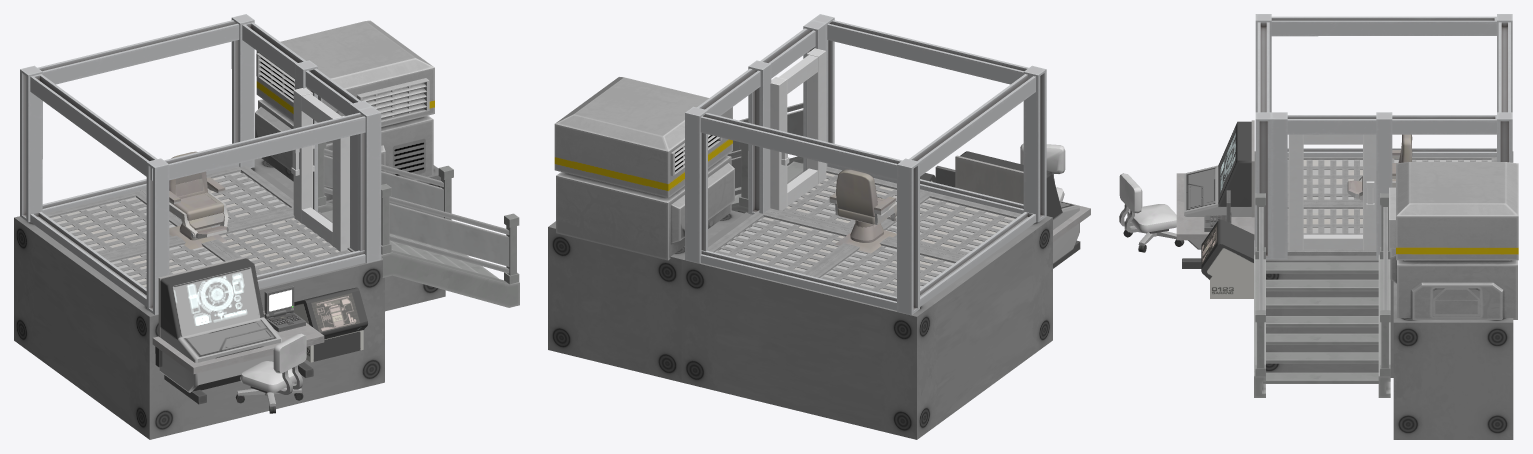
File: Pfb_ObservationDeck_Temp__15.fbx
3 renders of one model, left to right at view 1: azimuth 30°, elevation 25°; view 2: azimuth 150°, elevation 25°; view 3: azimuth 270°, elevation 25°, orthographic. The views are drawn at different scales.
Visible parts, largest first — view 1: Mat_SteelFrame_01, MAT_ScalableMesh_01, Mat_Ventilation_Soda, Mat_Stairs_Soda, Mat_Network_01_2, MAT_Soda_Instruments_Grey 6, Mat_TS_Metall 2, Mat_Tile_Color_01 7, MAT_Soda_Instruments_Grey 7, Mat_Tile_Color_07 2, Mat_Chair_01, Mat_Table_01 (+2 smaller); view 2: MAT_ScalableMesh_01, Mat_SteelFrame_01, Mat_Ventilation_Soda, Mat_Network_01_2, Mat_TS_Metall 2, Mat_Tile_Color_01 7, Mat_Tile_Color_07 2, Mat_CementMold_1, Mat_Stairs_Soda, MAT_Soda_Instruments_Grey 6, Mat_Chair_01, Mat_Table_01; view 3: MAT_ScalableMesh_01, Mat_Ventilation_Soda, Mat_SteelFrame_01, Mat_Stairs_Soda, Mat_TS_Metall 2, Mat_Network_01_2, MAT_Soda_Instruments_Grey 6, MAT_Soda_Instruments_Grey 7, Mat_Chair_01, Mat_Tile_Color_01 7, Mat_Table_01, Mat_Tile_Color_07 2 (+2 smaller).
Part boxes in pixels (x1=…): Mat_SteelFrame_01: x1=20, y1=14, x2=381, y2=314; MAT_ScalableMesh_01: x1=14, y1=158, x2=445, y2=439; Mat_Ventilation_Soda: x1=255, y1=20, x2=434, y2=200; Mat_Stairs_Soda: x1=318, y1=142, x2=519, y2=307; Mat_Network_01_2: x1=37, y1=165, x2=354, y2=296; MAT_Soda_Instruments_Grey 6: x1=159, y1=258, x2=282, y2=392; Mat_TS_Metall 2: x1=293, y1=88, x2=349, y2=251; Mat_Tile_Color_01 7: x1=50, y1=172, x2=339, y2=286; MAT_Soda_Instruments_Grey 7: x1=293, y1=287, x2=367, y2=362; Mat_Tile_Color_07 2: x1=169, y1=151, x2=226, y2=249; Mat_Chair_01: x1=235, y1=333, x2=306, y2=413; Mat_Table_01: x1=152, y1=310, x2=324, y2=404; MAT_ScalableMesh_01: x1=548, y1=171, x2=1052, y2=439; Mat_SteelFrame_01: x1=685, y1=14, x2=1046, y2=315; Mat_Ventilation_Soda: x1=554, y1=77, x2=734, y2=260; Mat_Network_01_2: x1=708, y1=166, x2=1028, y2=296; Mat_TS_Metall 2: x1=770, y1=48, x2=826, y2=210; Mat_Tile_Color_01 7: x1=719, y1=173, x2=1014, y2=293; Mat_Tile_Color_07 2: x1=829, y1=169, x2=896, y2=253; Mat_CementMold_1: x1=955, y1=155, x2=1023, y2=204; Mat_Stairs_Soda: x1=727, y1=102, x2=803, y2=213; MAT_Soda_Instruments_Grey 6: x1=960, y1=151, x2=1079, y2=263; Mat_Chair_01: x1=1020, y1=143, x2=1065, y2=201; Mat_Table_01: x1=1053, y1=201, x2=1090, y2=268; MAT_ScalableMesh_01: x1=1254, y1=151, x2=1513, y2=439; Mat_Ventilation_Soda: x1=1389, y1=162, x2=1518, y2=319; Mat_SteelFrame_01: x1=1255, y1=14, x2=1512, y2=259; Mat_Stairs_Soda: x1=1254, y1=193, x2=1390, y2=397; Mat_TS_Metall 2: x1=1288, y1=134, x2=1376, y2=250; Mat_Network_01_2: x1=1287, y1=157, x2=1496, y2=255; MAT_Soda_Instruments_Grey 6: x1=1184, y1=121, x2=1251, y2=249; MAT_Soda_Instruments_Grey 7: x1=1201, y1=219, x2=1253, y2=298; Mat_Chair_01: x1=1119, y1=173, x2=1184, y2=252; Mat_Tile_Color_01 7: x1=1303, y1=160, x2=1491, y2=233; Mat_Table_01: x1=1176, y1=173, x2=1254, y2=268; Mat_Tile_Color_07 2: x1=1348, y1=134, x2=1412, y2=194.
Size of the model in its own units: 6.29 by 4.39 by 6.18.
Materials: 16 (16 with a texture image).
